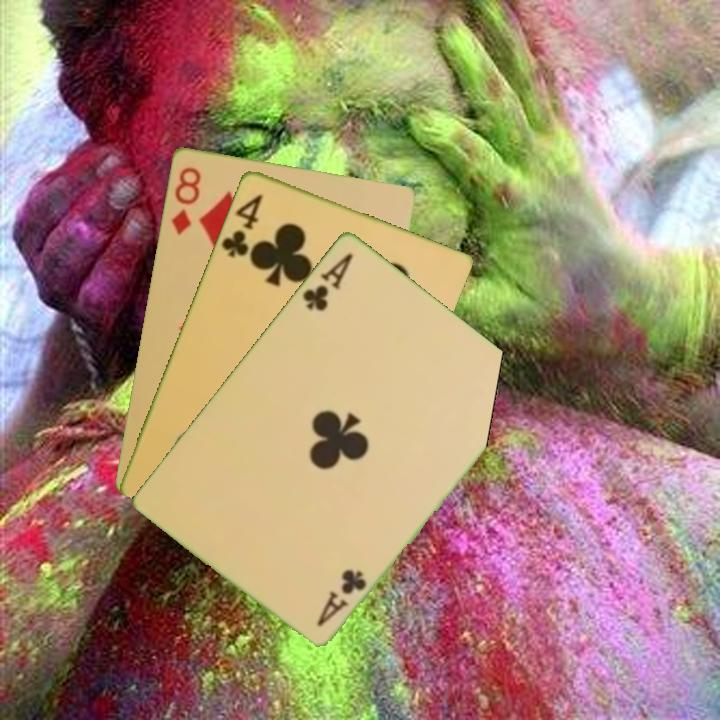4c: (217, 190, 266, 260)
8d: (167, 163, 204, 237)
Ac: (298, 248, 356, 314), (313, 564, 370, 629)
